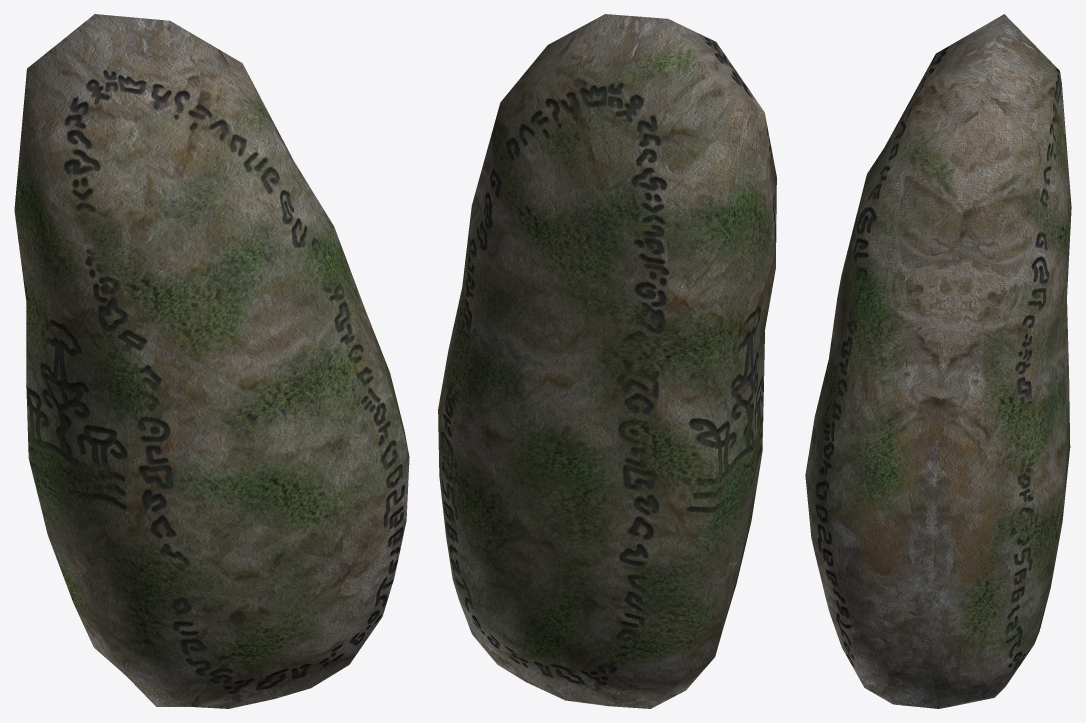
The model's file is RuneGlowStoneShape.dae.
3 renders of one model, left to right at view 1: azimuth 30°, elevation 25°; view 2: azimuth 150°, elevation 25°; view 3: azimuth 270°, elevation 25°, orthographic. The views are drawn at different scales.
Visible parts, largest first — view 1: RuneGlowStone; view 2: RuneGlowStone; view 3: RuneGlowStone.
Part boxes in pixels (x1,y1,x2,y2): RuneGlowStone: (14, 14, 409, 708); RuneGlowStone: (438, 14, 776, 708); RuneGlowStone: (805, 14, 1071, 708).
Size of the model in its own units: 3.35 by 6.92 by 2.66.
